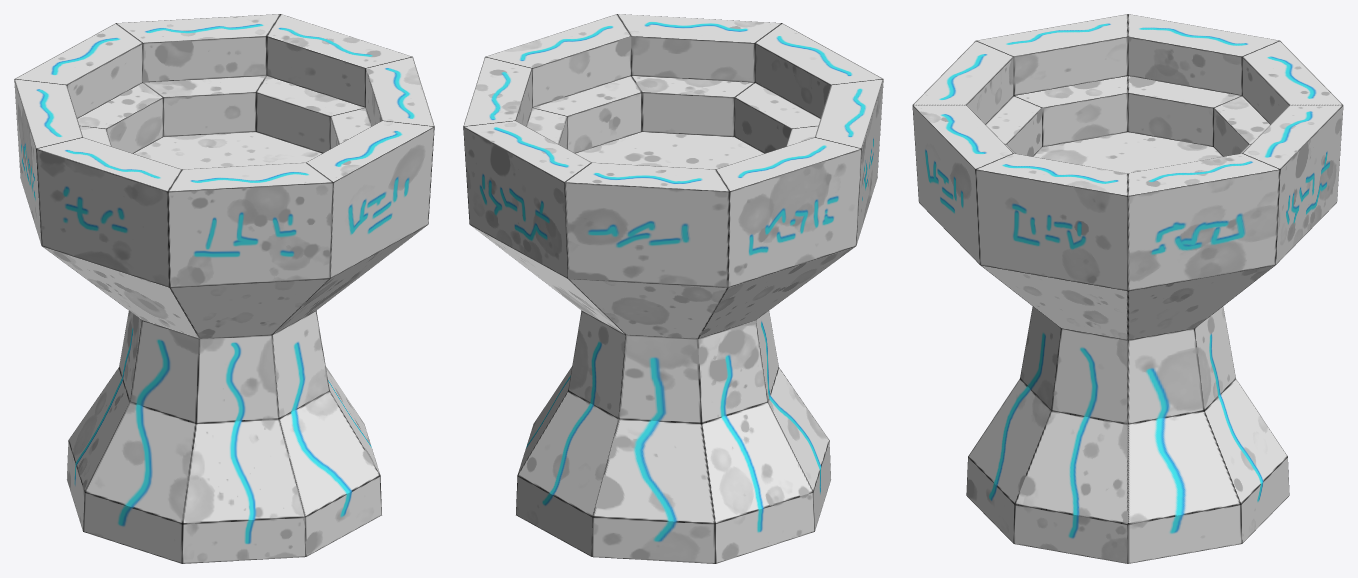
The model's file is Gen_Altar.fbx.
The picture shows the model from 3 angles, left to right: view 1: azimuth 30°, elevation 25°; view 2: azimuth 150°, elevation 25°; view 3: azimuth 270°, elevation 25°; orthographic projection.
Visible parts, largest first — view 1: Altar1; view 2: Altar1; view 3: Altar1.
Boxes of the visible parts, x1,y1,x2,y2 form: Altar1: (14,14,434,563); Altar1: (463,14,883,563); Altar1: (912,14,1343,563).
Size of the model in its own units: 100 by 100 by 100.
Materials: 1 (1 with a texture image).
